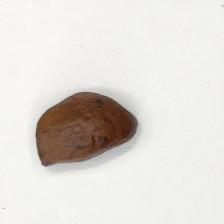NG: (35, 90, 139, 168)
